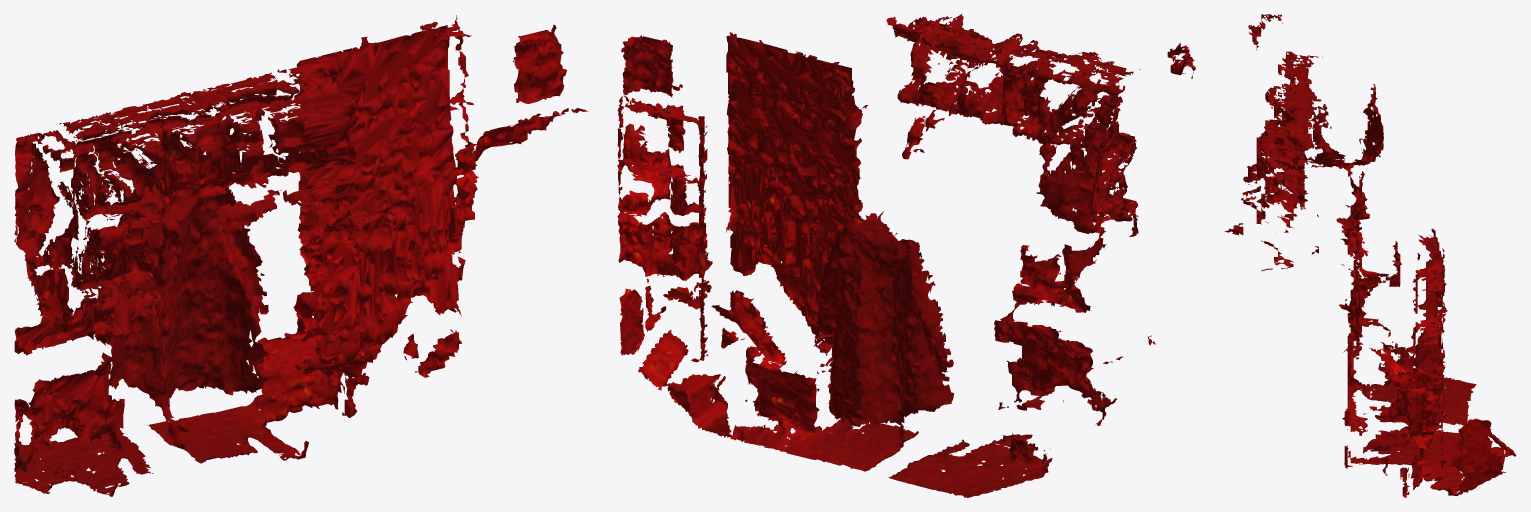
The model's file is mesh_iter_0001.obj.
The picture shows the model from 3 angles, left to right: view 1: azimuth 30°, elevation 25°; view 2: azimuth 150°, elevation 25°; view 3: azimuth 270°, elevation 25°; orthographic projection. The views are drawn at different scales.
Size of the model in its own units: 3.03 by 2.14 by 1.66.
